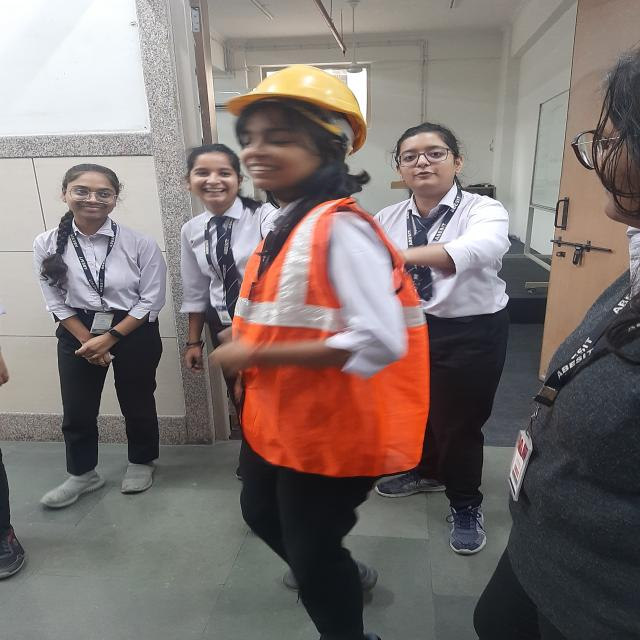safe: (217, 62, 433, 640)
unsafe: (470, 47, 640, 640), (373, 120, 508, 554), (36, 162, 164, 508), (178, 143, 276, 421)
